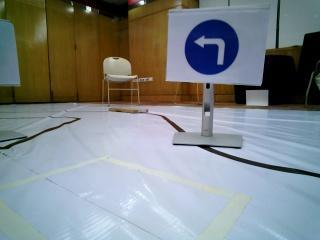left: (173, 17, 254, 76)
